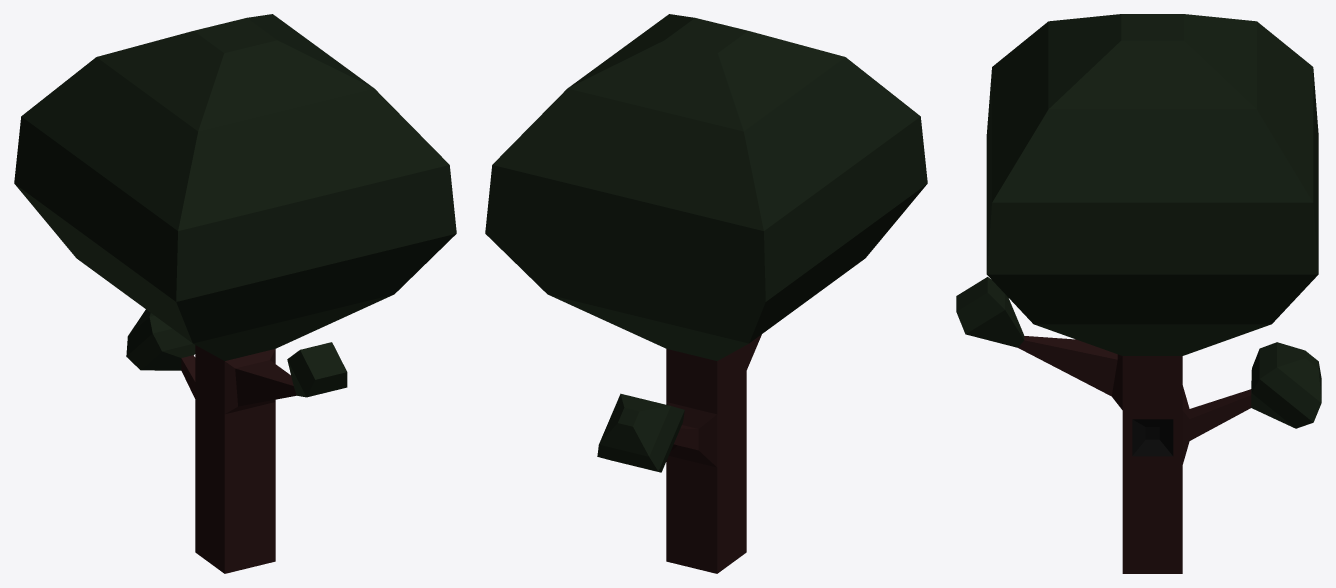
File: tree.FBX
3 renders of one model, left to right at view 1: azimuth 30°, elevation 25°; view 2: azimuth 150°, elevation 25°; view 3: azimuth 270°, elevation 25°, orthographic. The views are drawn at different scales.
Parts seen in each view (by area): view 1: Tree; view 2: Tree; view 3: Tree.
Part boxes in pixels (left/top/right/bottom): Tree: left=14, top=14, right=456, bottom=573; Tree: left=485, top=14, right=927, bottom=573; Tree: left=956, top=14, right=1321, bottom=573.
Bounding box in the file's own units: 55.2 × 98.03 × 60.75.
